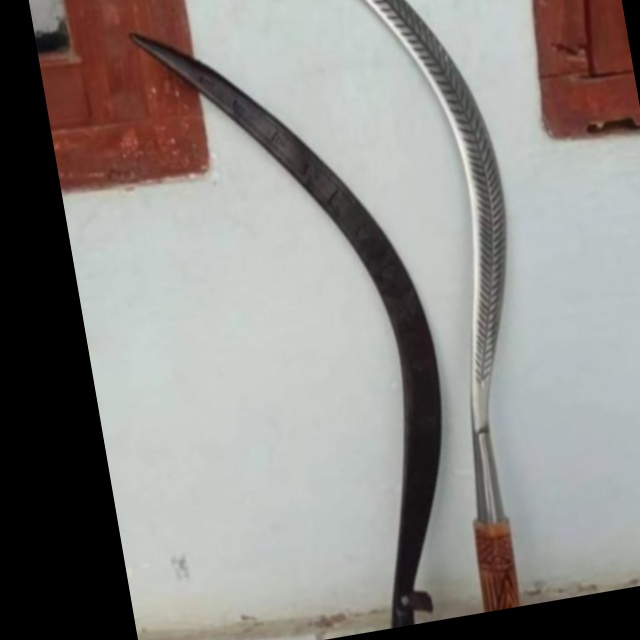Sharp-Object: (305, 0, 586, 617)
